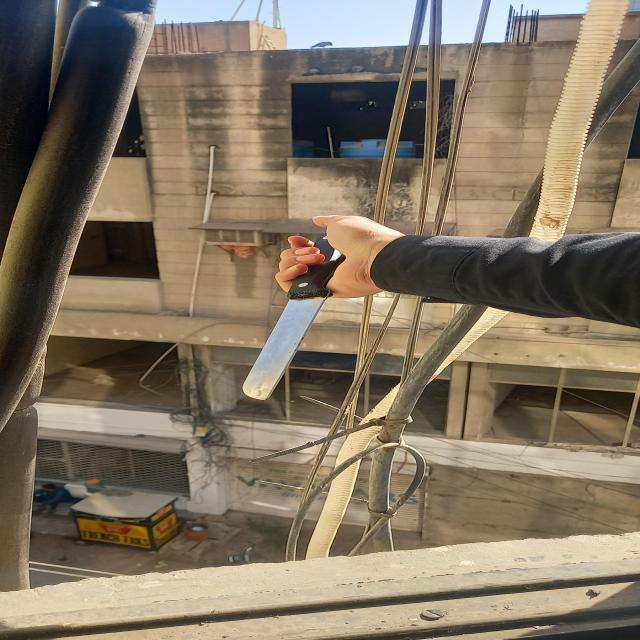faca: (243, 232, 348, 400)
